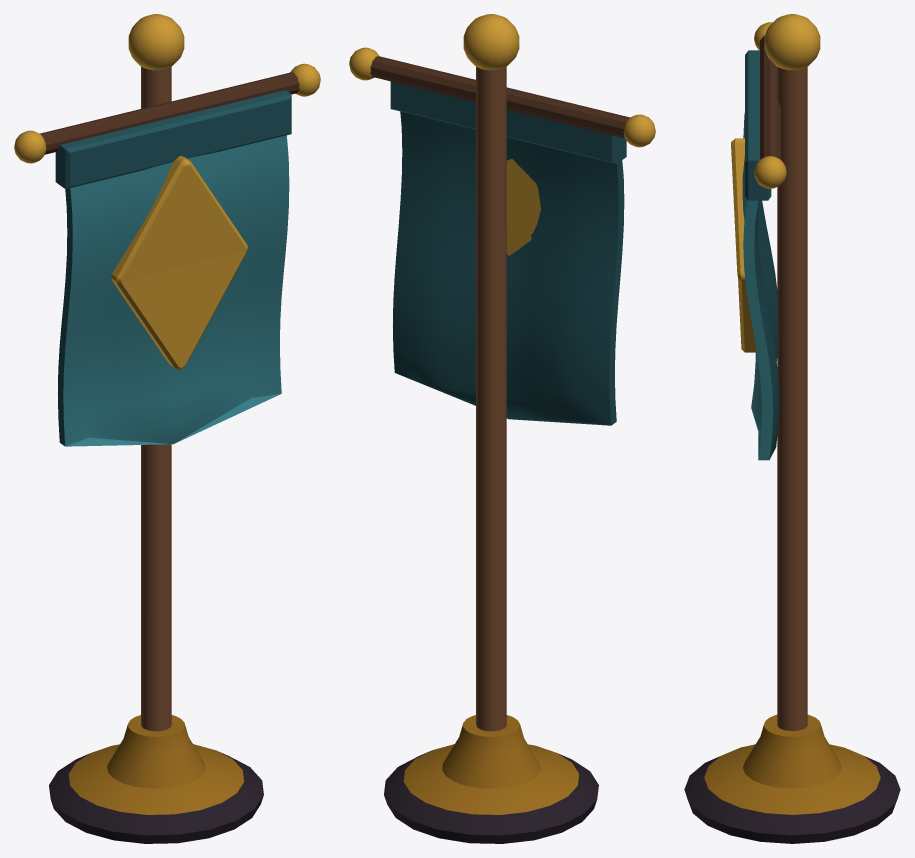
File: Banner_12.glb
The picture shows the model from 3 angles, left to right: view 1: azimuth 30°, elevation 25°; view 2: azimuth 150°, elevation 25°; view 3: azimuth 270°, elevation 25°; orthographic projection.
Parts seen in each view (by area): view 1: Banner_12; view 2: Banner_12; view 3: Banner_12.
Boxes of the visible parts, left/top/right/bottom form: Banner_12: left=14, top=14, right=320, bottom=843; Banner_12: left=349, top=14, right=655, bottom=843; Banner_12: left=684, top=14, right=900, bottom=843.
Bounding box in the file's own units: 3.16 × 7.83 × 1.96.
